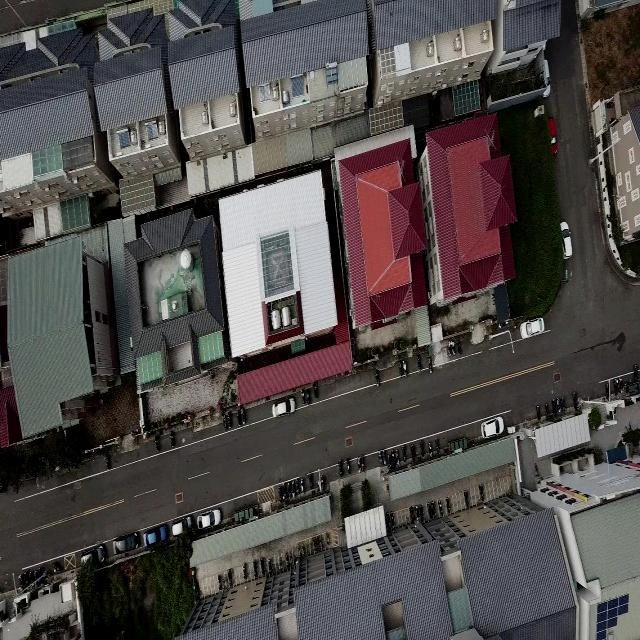bike: (571, 389, 579, 414), (103, 447, 111, 470), (374, 367, 382, 389), (240, 405, 247, 426), (418, 438, 426, 456), (632, 362, 639, 382), (154, 431, 160, 454), (236, 406, 242, 428), (260, 556, 266, 578), (267, 554, 273, 576), (556, 394, 562, 416), (435, 436, 441, 458), (604, 381, 610, 402), (456, 335, 462, 356), (39, 565, 44, 590), (170, 428, 176, 448), (346, 455, 352, 475), (394, 446, 400, 466), (227, 567, 233, 587), (242, 562, 248, 582), (252, 559, 258, 579), (284, 550, 290, 570), (479, 482, 485, 502), (419, 502, 425, 522), (408, 502, 414, 522), (544, 400, 550, 420), (560, 394, 566, 414), (18, 571, 24, 591), (410, 440, 416, 459), (613, 376, 619, 395), (398, 356, 403, 378), (305, 387, 311, 405), (338, 458, 344, 476), (282, 482, 288, 500), (356, 456, 362, 474), (401, 444, 407, 462), (618, 376, 624, 394), (313, 382, 319, 399), (386, 452, 392, 469), (300, 472, 304, 497), (390, 448, 395, 468), (428, 438, 433, 458), (431, 500, 436, 520), (536, 402, 541, 422), (300, 388, 306, 404), (291, 478, 295, 502), (308, 472, 314, 488), (427, 502, 433, 518), (414, 504, 420, 520), (464, 489, 469, 508), (24, 569, 28, 592), (217, 572, 222, 590), (438, 498, 443, 516), (296, 474, 300, 496), (29, 570, 33, 592), (34, 568, 38, 590), (381, 450, 387, 464), (552, 398, 556, 419), (448, 337, 452, 358), (228, 410, 232, 430), (288, 479, 292, 499), (378, 450, 383, 466), (452, 337, 456, 357), (428, 354, 432, 374), (404, 358, 408, 377), (223, 412, 227, 430), (361, 452, 365, 470), (417, 354, 421, 372), (446, 496, 450, 513), (278, 486, 282, 502)
car: (544, 112, 560, 160), (480, 414, 506, 439), (80, 545, 106, 569), (114, 532, 140, 554), (558, 219, 572, 258), (196, 508, 222, 528), (520, 317, 544, 338), (172, 515, 194, 537), (272, 397, 296, 417), (142, 526, 166, 545)
